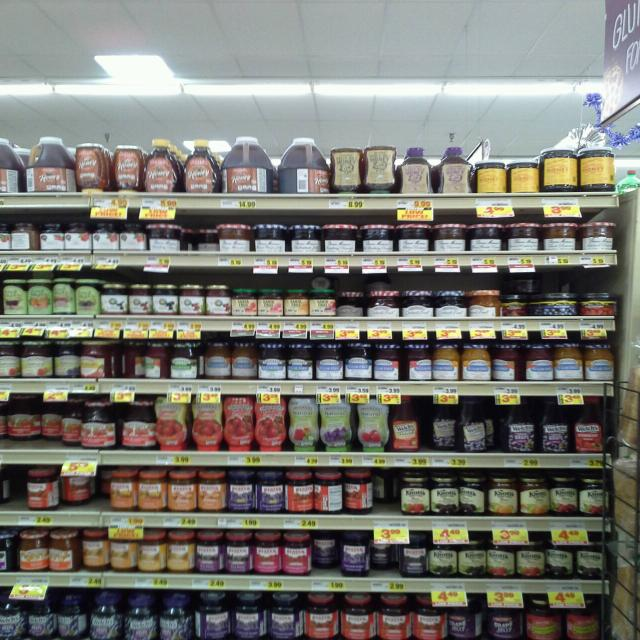empty: (4, 464, 23, 512)
